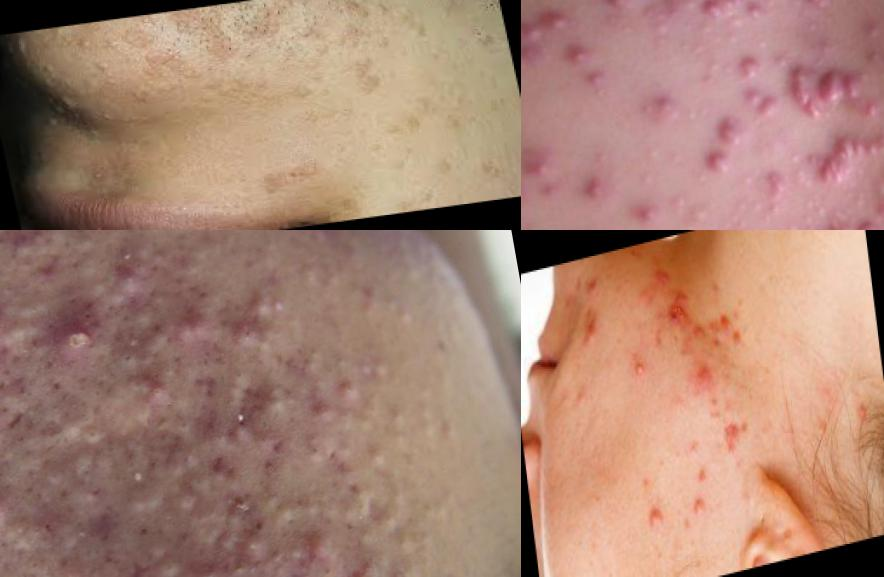acne_scars: (723, 401, 764, 469)
flat_wart: (16, 27, 139, 112), (357, 106, 437, 176), (249, 145, 347, 202), (197, 68, 286, 120), (282, 64, 349, 130), (338, 58, 388, 100), (471, 147, 521, 186), (142, 46, 185, 79)
folliculitis: (837, 386, 878, 442)
keloid: (805, 127, 884, 192), (806, 61, 879, 115)
papular: (299, 333, 384, 430), (61, 499, 128, 557), (170, 298, 228, 350), (113, 251, 163, 308), (353, 543, 413, 577), (711, 115, 747, 154), (701, 149, 739, 183), (692, 359, 720, 401), (522, 176, 545, 222), (582, 314, 605, 348), (1, 481, 13, 530)
purulent: (639, 471, 679, 551), (49, 313, 108, 365), (688, 482, 725, 529), (626, 338, 656, 389)
sebo-crystan-conglo: (522, 1, 578, 70), (652, 278, 704, 351), (784, 55, 829, 130), (688, 1, 779, 29), (741, 85, 785, 126), (224, 357, 266, 395), (298, 423, 330, 470), (734, 45, 770, 86), (867, 164, 884, 225), (595, 1, 673, 14), (798, 217, 867, 231), (789, 1, 850, 14)
whitehead: (255, 478, 341, 537), (391, 236, 447, 306), (410, 377, 458, 451), (242, 279, 299, 330), (374, 283, 426, 338), (419, 478, 465, 530), (146, 542, 204, 577), (123, 475, 169, 519), (3, 231, 55, 269), (74, 412, 112, 459), (107, 343, 152, 379), (163, 407, 202, 443), (362, 439, 394, 482), (268, 535, 293, 577), (307, 554, 350, 577), (85, 160, 118, 187), (759, 210, 797, 231), (78, 565, 134, 577)
